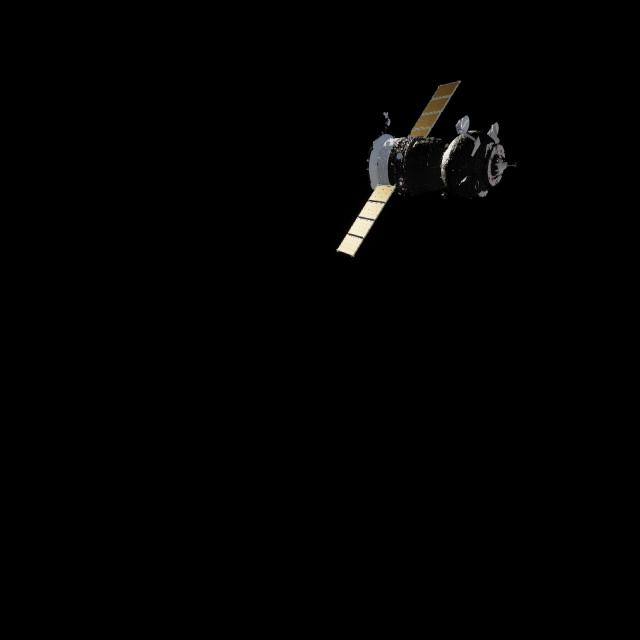Satellites revolving around earth: (334, 77, 516, 261)
